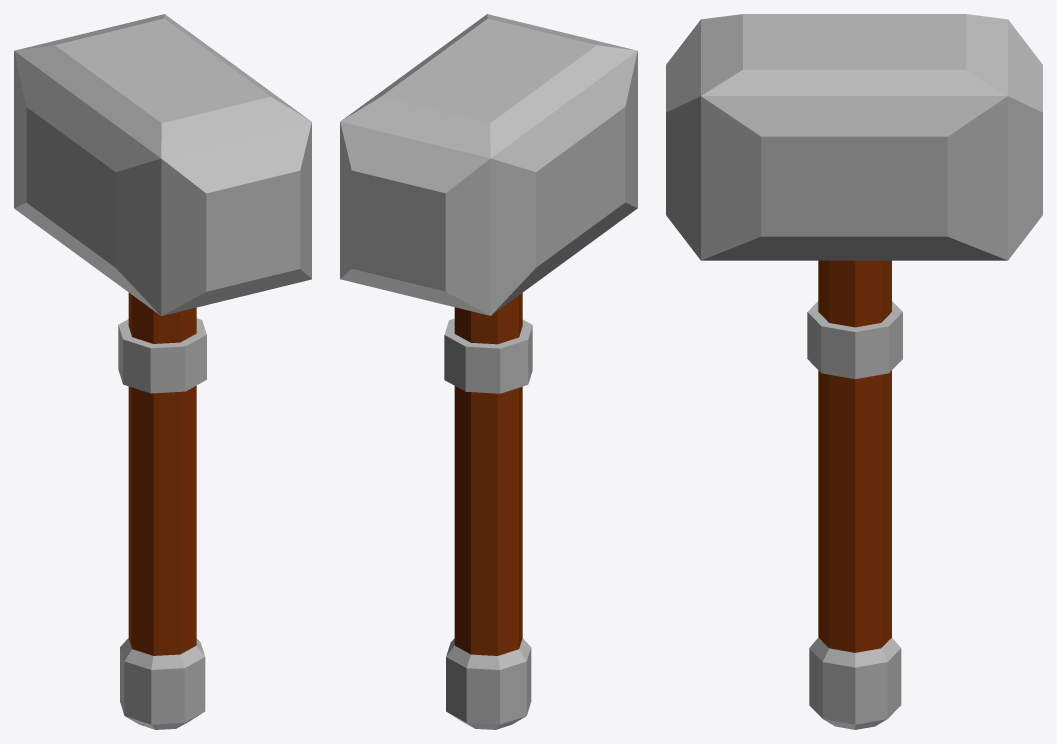
File: hammer.fbx
3 renders of one model, left to right at view 1: azimuth 30°, elevation 25°; view 2: azimuth 150°, elevation 25°; view 3: azimuth 270°, elevation 25°, orthographic. The views are drawn at different scales.
Parts seen in each view (by area): view 1: Cylinder; view 2: Cylinder; view 3: Cylinder.
Boxes of the visible parts, x1,y1,x2,y2 form: Cylinder: (14,14,311,729); Cylinder: (340,14,637,729); Cylinder: (666,14,1042,729).
Bounding box in the file's own units: 72.66 × 245 × 124.
1 material, 1 textured.
